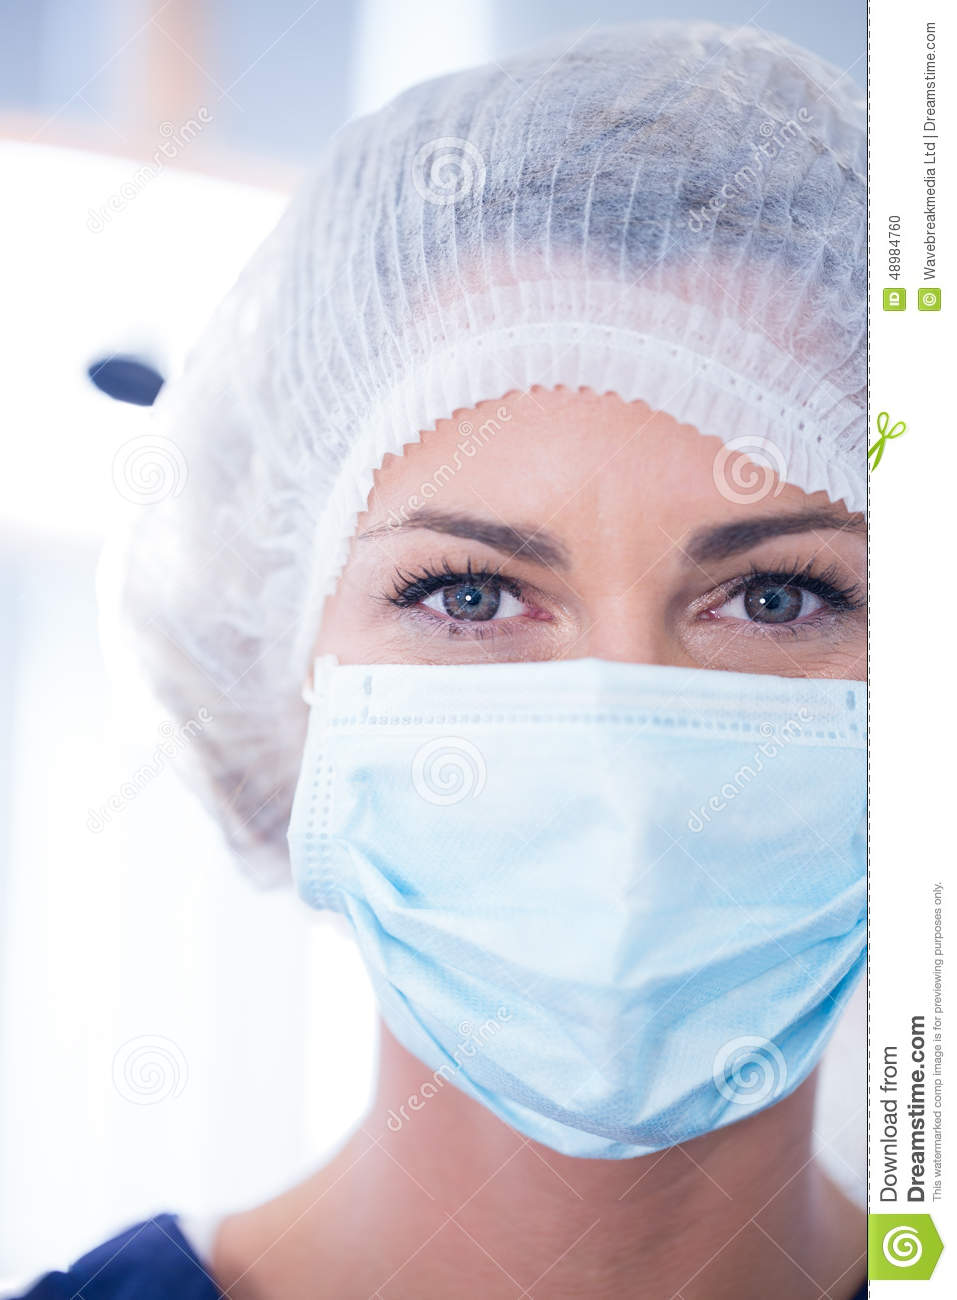mask: (300, 651, 870, 1183)
